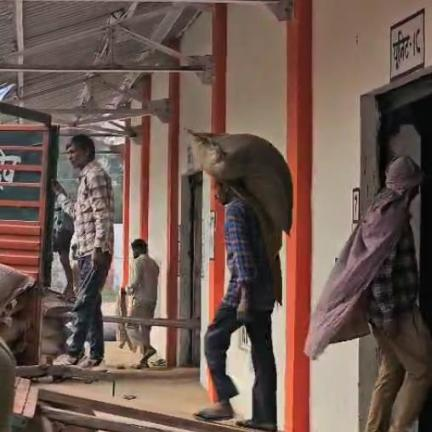Zone-Counting: (188, 131, 292, 431)
